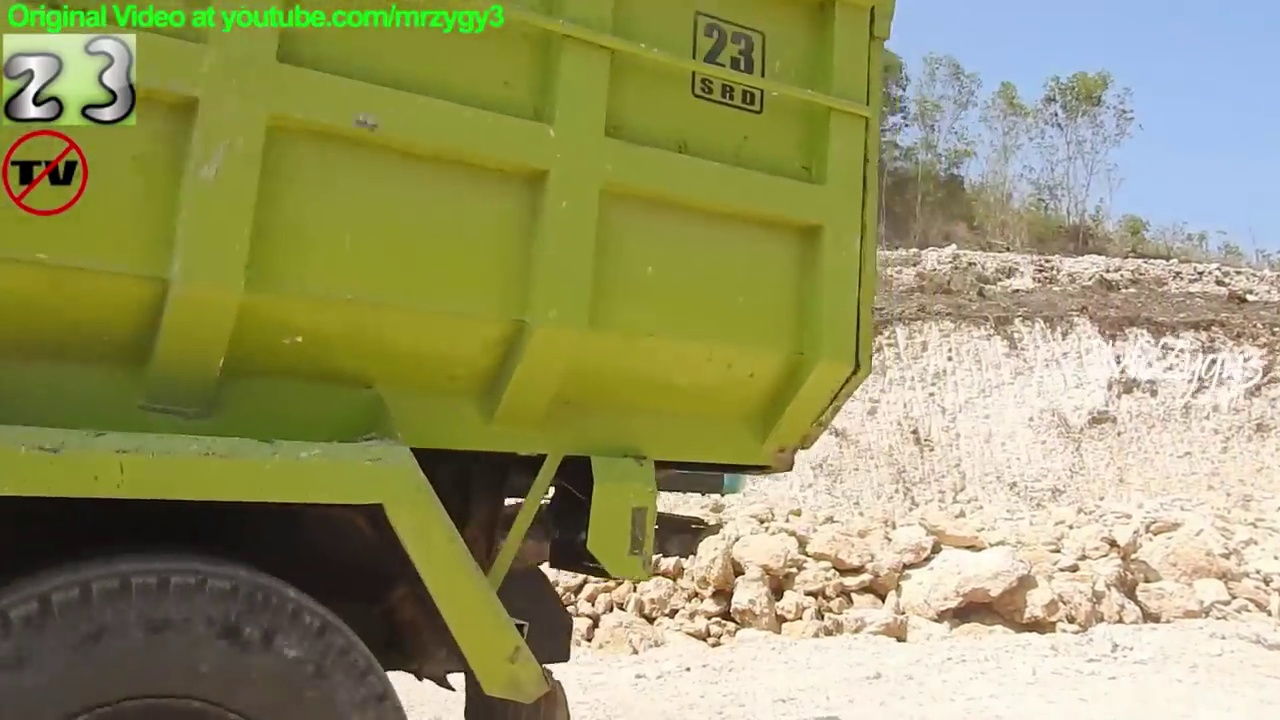truck: (1, 1, 903, 720)
